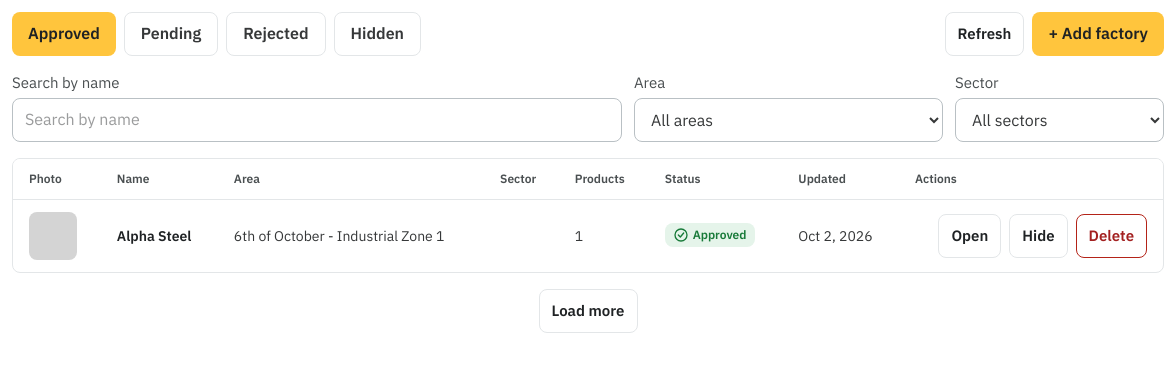
Test: FactoriesPage › loads more with the last cursor and appends
Expected: the text "Alpha Steel" is shown, [117,227,192,245]
Click the button "Load more" at (588, 311), box [538,289,638,333]
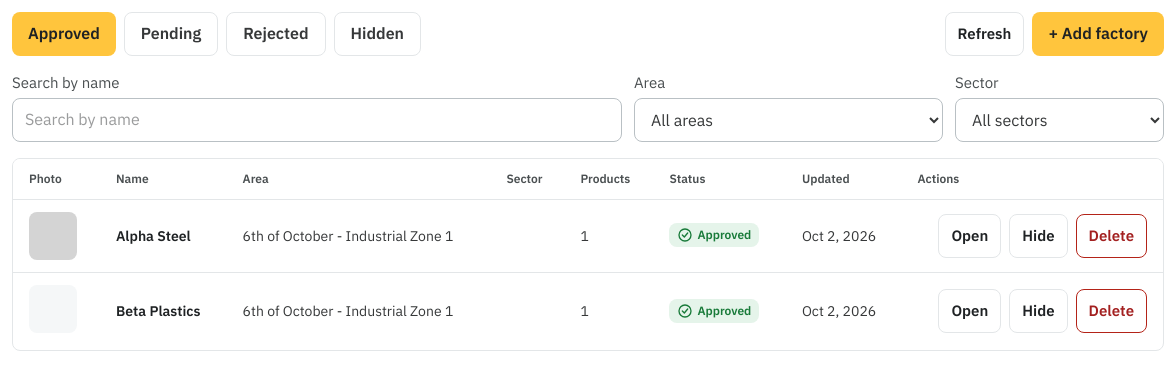
Expected: the text "Alpha Steel" is shown, [116,227,191,245]
Expected: the text "Beta Plastics" is shown, [116,302,200,320]
Expected: the button "Load more" is gone
